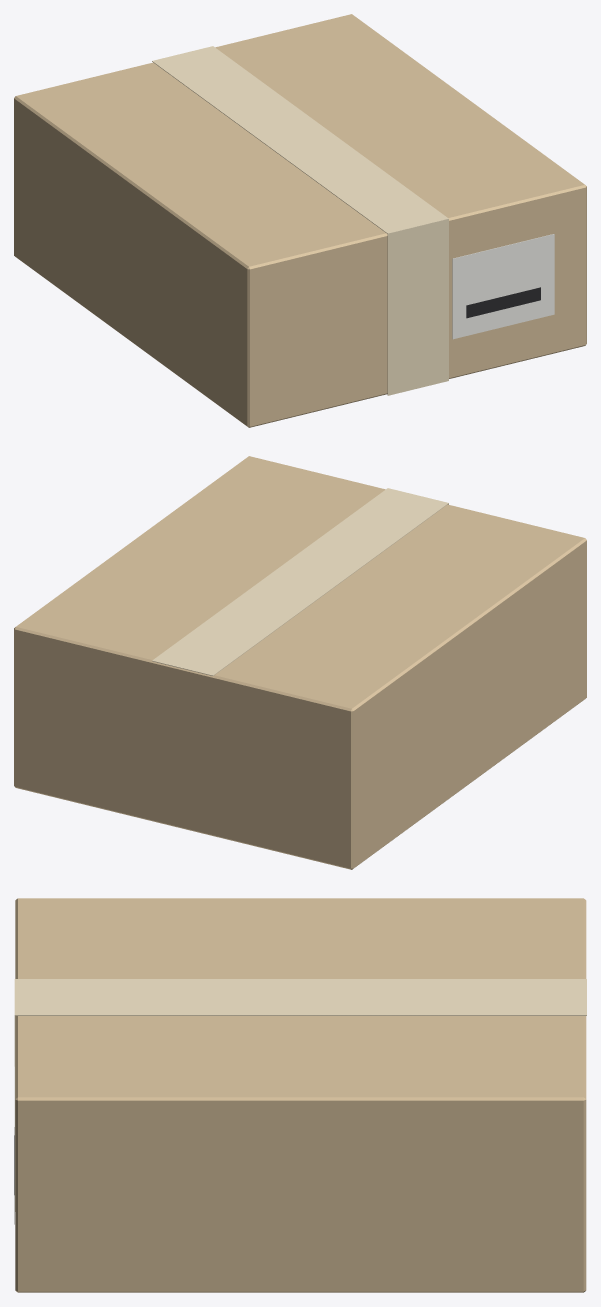
File: crate_4u.fbx
3 views of the same model, one above another, from view 1: azimuth 30°, elevation 25°; view 2: azimuth 150°, elevation 25°; view 3: azimuth 270°, elevation 25° (orthographic). The views are drawn at different scales.
Parts seen in each view (by area): view 1: Carton; view 2: Carton; view 3: Carton.
Part boxes in pixels (x1,y1,x2,y2): Carton: (14, 14, 586, 427); Carton: (14, 456, 586, 869); Carton: (14, 898, 586, 1292).
Size of the model in its own units: 0.75 by 0.3422 by 0.9031.
